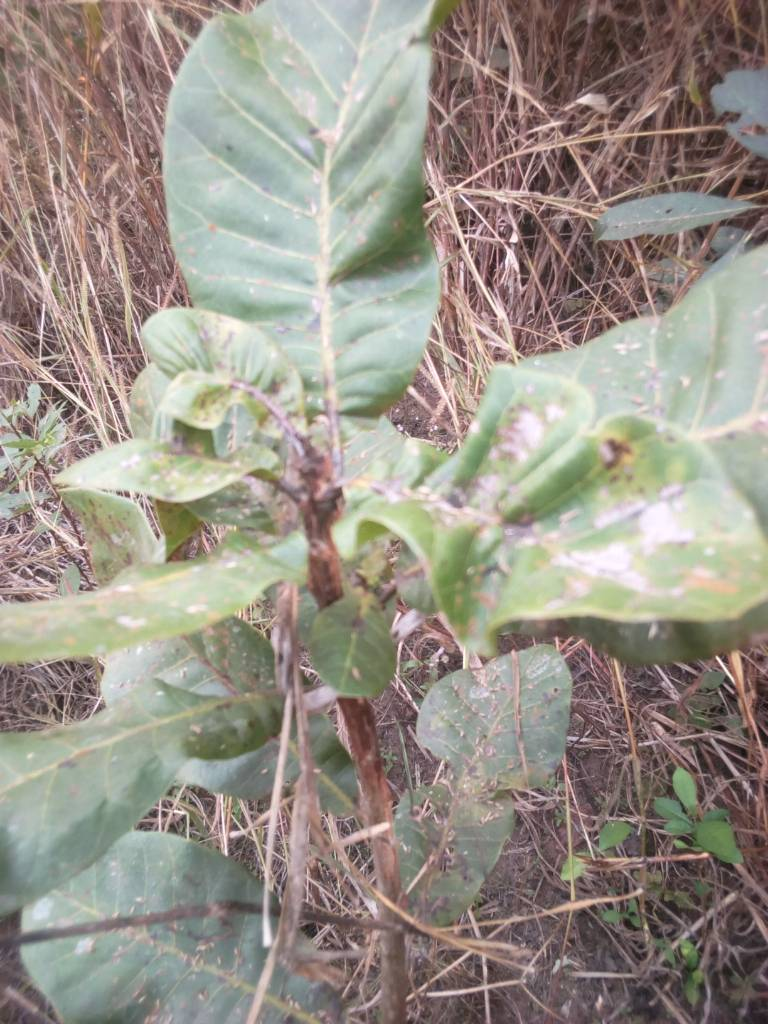Dessèchement des bourgeons: (210, 341, 372, 603)
